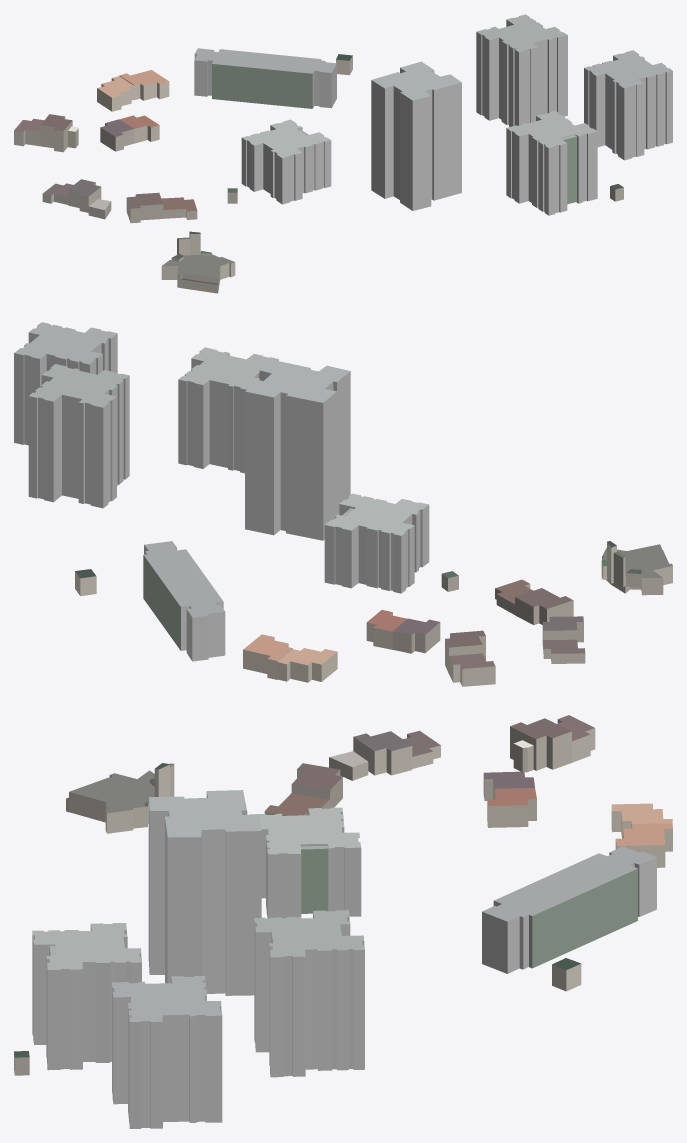
The picture shows the model from 3 angles, top to bottom: view 1: azimuth 30°, elevation 25°; view 2: azimuth 150°, elevation 25°; view 3: azimuth 270°, elevation 25°; orthographic projection. The views are drawn at different scales.
Parts seen in each view (by area): view 1: tuile; view 2: tuile; view 3: tuile.
Part boxes in pixels (<box>): tuile: <box>14,14,672,293</box>; tuile: <box>14,322,672,686</box>; tuile: <box>14,715,672,1128</box>.
Bounding box in the file's own units: 246 × 52.07 × 177.
